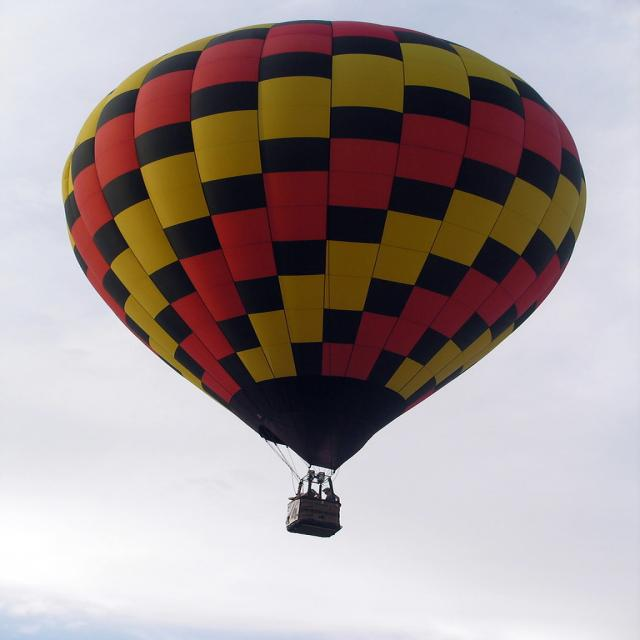balloon: (61, 19, 589, 538)
